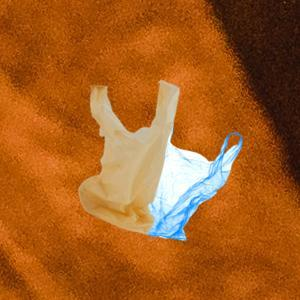plastic_bag: (77, 80, 179, 237), (150, 115, 244, 240)
